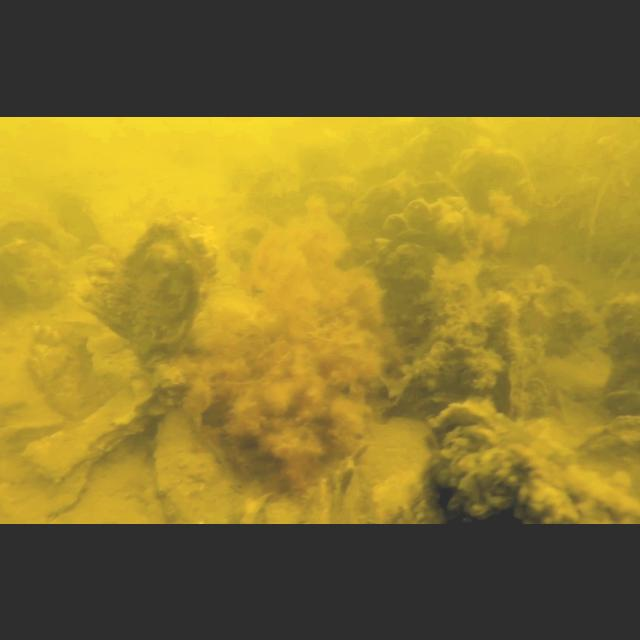Oyster-Closed: (132, 209, 225, 371), (458, 442, 640, 524), (24, 374, 158, 482), (157, 402, 249, 524), (448, 137, 534, 253), (348, 169, 470, 245), (28, 321, 96, 419), (76, 240, 136, 340), (379, 197, 468, 260), (40, 183, 106, 247)
Oyster-Open: (428, 398, 508, 524), (376, 226, 440, 344), (0, 215, 76, 307), (224, 223, 272, 295), (601, 386, 640, 432)
